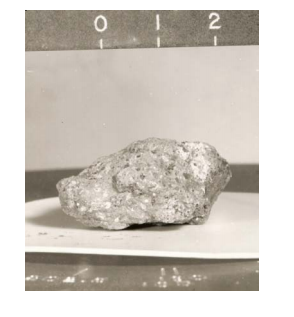Breccia: (55, 121, 249, 238)
